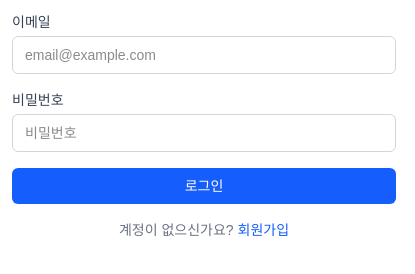
Test: LoginForm › 이메일 형식이 잘못되면 에러 메시지를 표시한다
Type "invalid-email" into the field labelled "이메일" at (204, 55), box [12,36,396,74]
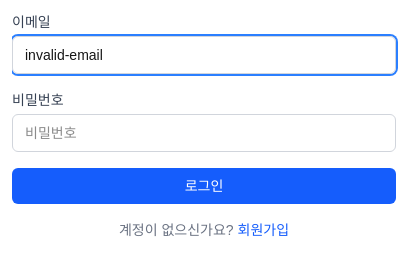
Type "password123" into the password field labelled "비밀번호" at (204, 133), box [12,114,396,152]
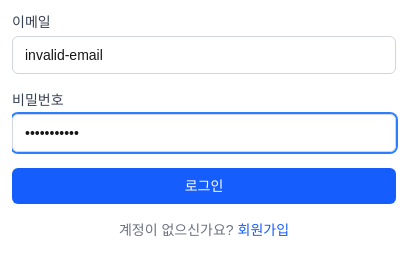
Click the button "로그인" at (204, 186), box [12,168,396,204]
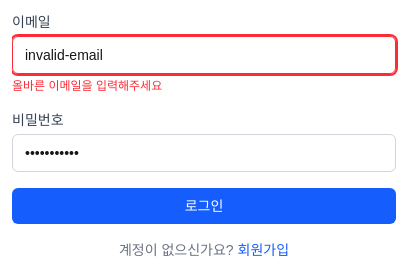
Expected: the text "올바른 이메일을 입력해주세요" is shown, [12,79,162,93]
